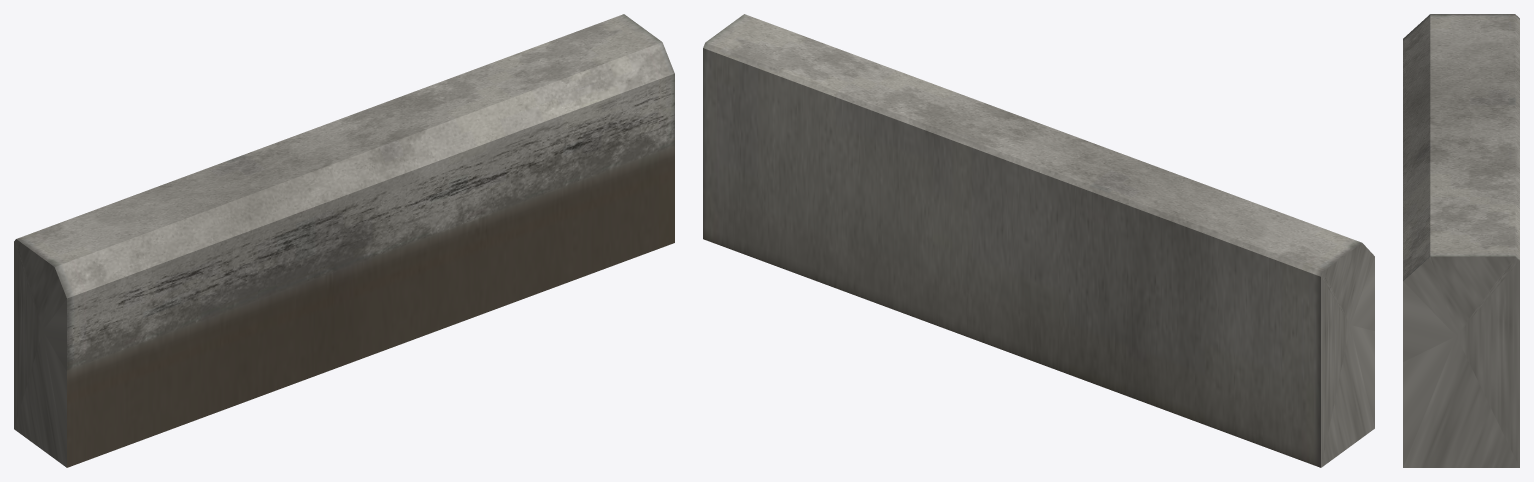
Rendered from curb_ramp_up_lod1_web.glb.
3 views of the same model, side by side, from view 1: azimuth 30°, elevation 25°; view 2: azimuth 150°, elevation 25°; view 3: azimuth 270°, elevation 25° (orthographic). The views are drawn at different scales.
Visible parts, largest first — view 1: curb_ramp_up_Mesh; view 2: curb_ramp_up_Mesh; view 3: curb_ramp_up_Mesh.
Part boxes in pixels (x1,y1,x2,y2): curb_ramp_up_Mesh: [14, 14, 674, 467]; curb_ramp_up_Mesh: [703, 14, 1374, 467]; curb_ramp_up_Mesh: [1403, 14, 1519, 467].
Size of the model in its own units: 0.995 by 0.42 by 0.15.
1 material, 1 textured.
